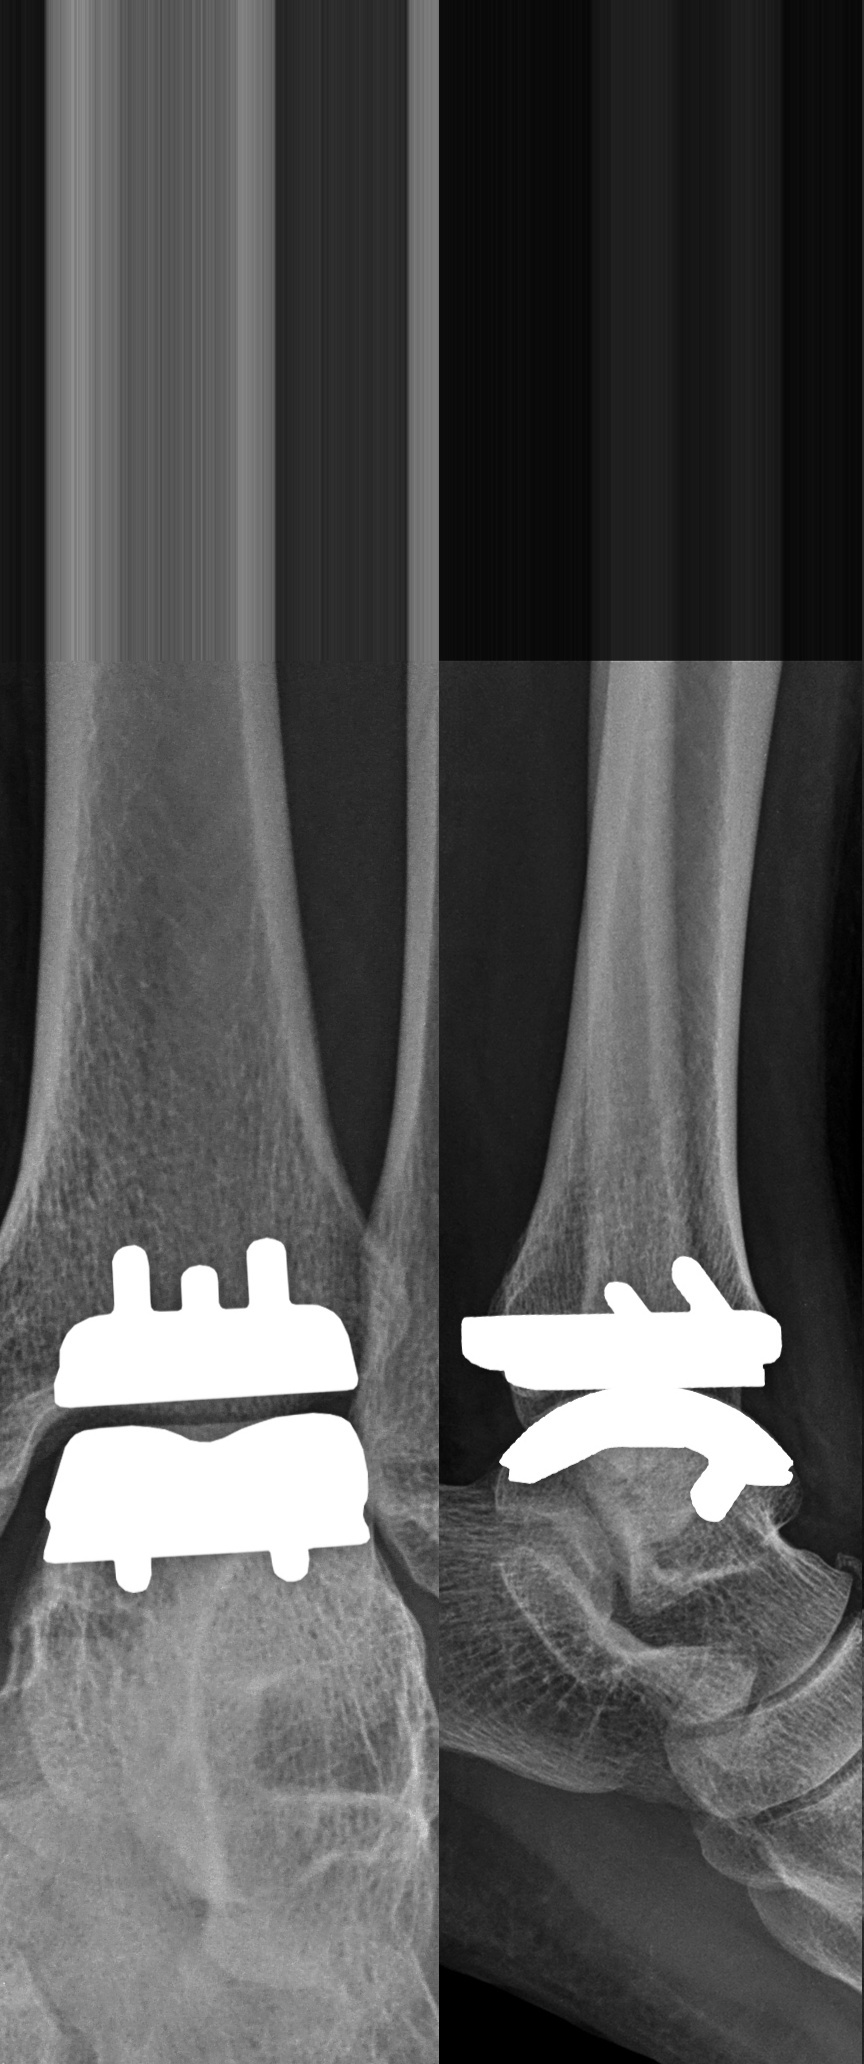Ankle - Infinity - Wright: (30, 1229, 385, 1624), (450, 1240, 814, 1548)
